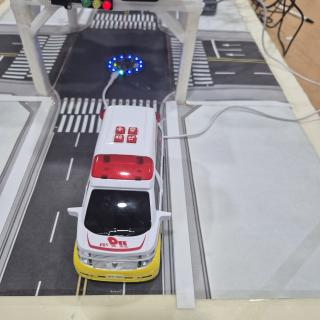Ambulance: (68, 105, 171, 282)
